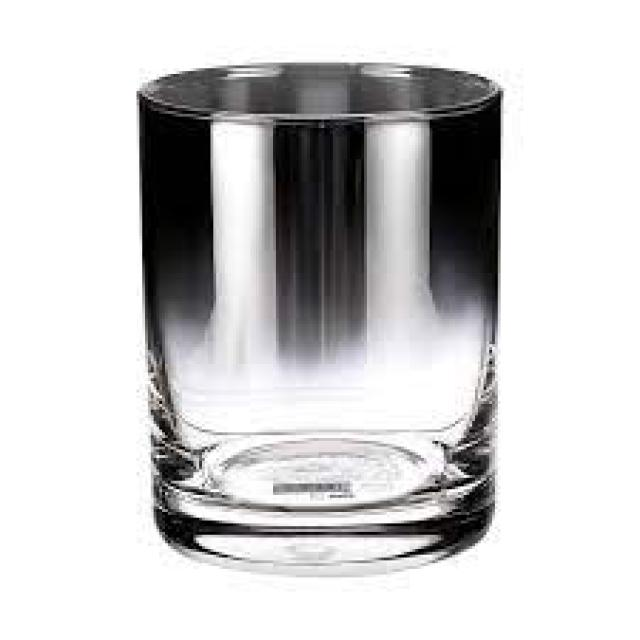Dry: (132, 58, 505, 572)
